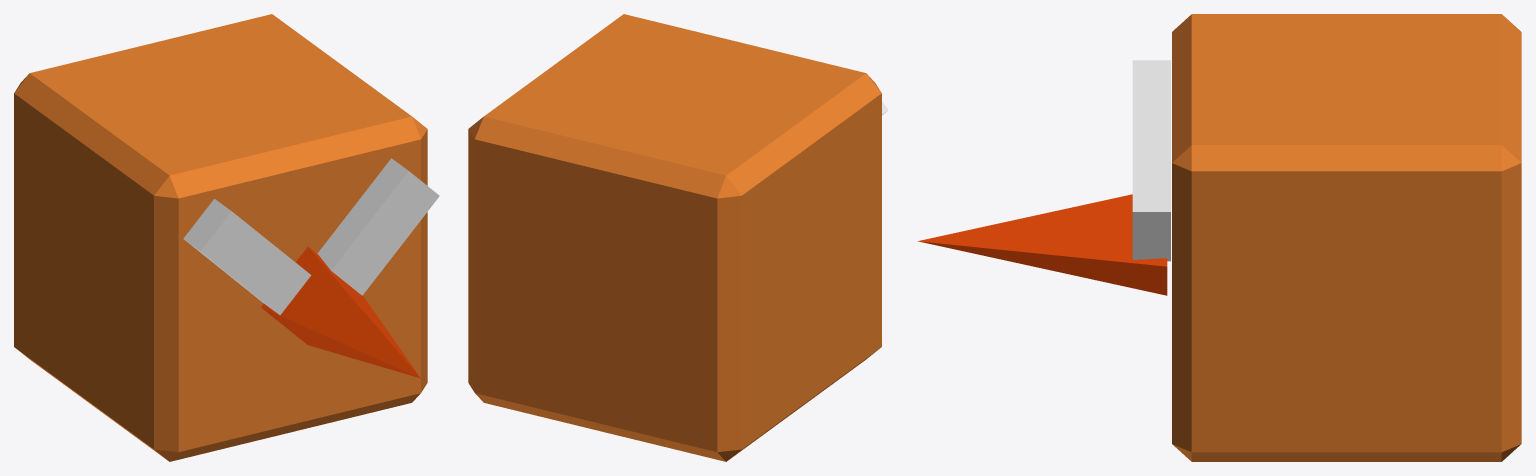
Rendered from Stinger Enemy.fbx.
3 renders of one model, left to right at view 1: azimuth 30°, elevation 25°; view 2: azimuth 150°, elevation 25°; view 3: azimuth 270°, elevation 25°, orthographic. The views are drawn at different scales.
Visible parts, largest first — view 1: Cube, Cube.002, Cone, Cube.001; view 2: Cube; view 3: Cube, Cone, Cube.002, Cube.001.
Part boxes in pixels (x1,y1,x2,y2): Cube: (14,14,427,461); Cube.002: (317,158,439,295); Cone: (261,247,420,378); Cube.001: (183,199,311,315); Cube: (468,14,881,461); Cube: (1172,14,1521,461); Cone: (918,194,1167,295); Cube.002: (1132,159,1170,261); Cube.001: (1132,60,1170,158).
Bounding box in the file's own units: 200 × 200 × 346.
